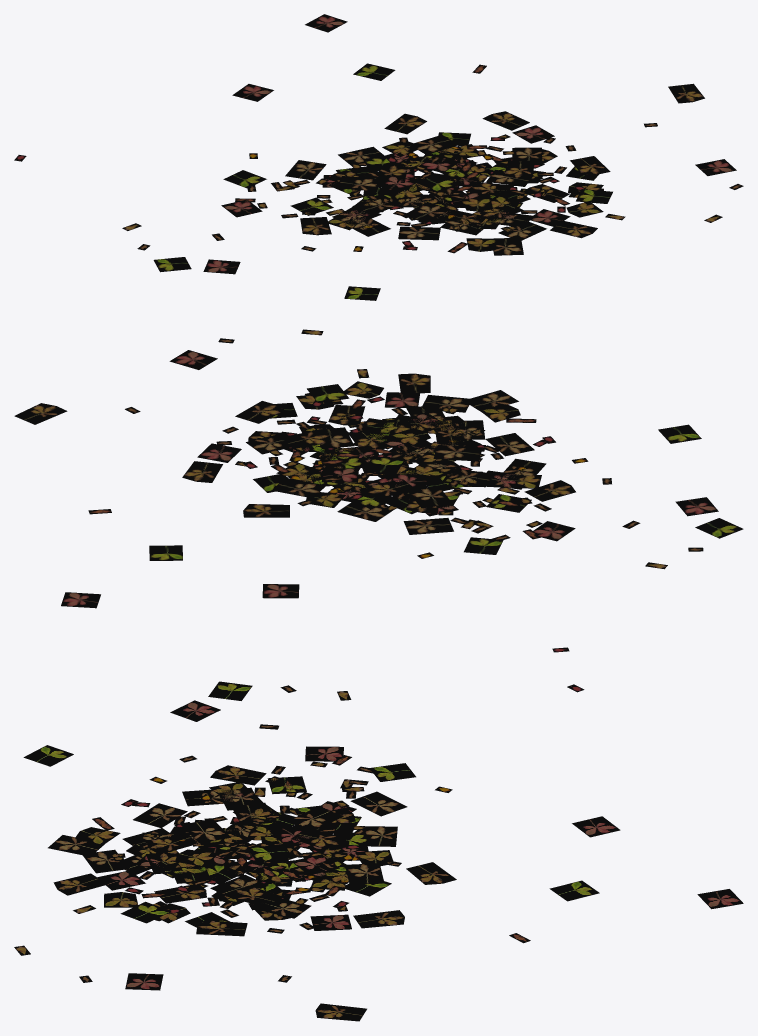
The model's file is leaf_pile.fbx.
3 renders of one model, top to bottom at view 1: azimuth 30°, elevation 25°; view 2: azimuth 150°, elevation 25°; view 3: azimuth 270°, elevation 25°, orthographic. The views are drawn at different scales.
Parts seen in each view (by area): view 1: leaf_pile; view 2: leaf_pile; view 3: leaf_pile.
Part boxes in pixels (bbox=[...]): leaf_pile: bbox=[14, 14, 743, 300]; leaf_pile: bbox=[14, 329, 743, 652]; leaf_pile: bbox=[14, 681, 743, 1021].
Size of the model in its own units: 55 by 0.000733 by 49.9.
